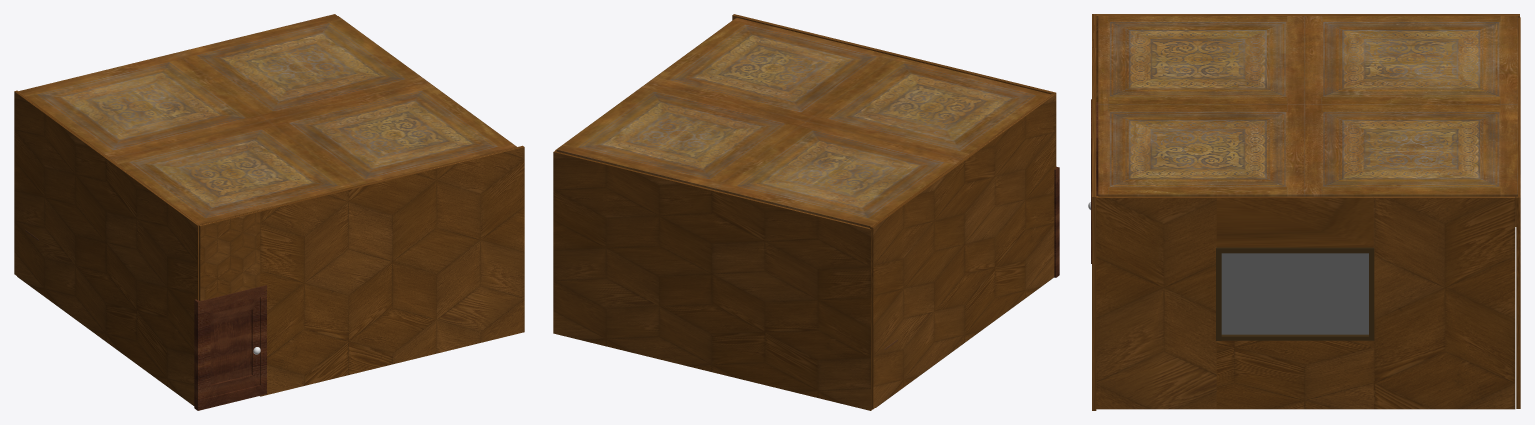
The model's file is Boss room.fbx.
3 views of the same model, side by side, from view 1: azimuth 30°, elevation 25°; view 2: azimuth 150°, elevation 25°; view 3: azimuth 270°, elevation 25° (orthographic). The views are drawn at different scales.
Visible parts, largest first — view 1: pCube160, pCube179, pCube125, pCube192; view 2: pCube178, pCube160, pCube125, pCube179, pCube192; view 3: pCube160, pCube180, pPlane4, pCube173, pCube179, pCube178, pCube125, pCube192.
Boxes of the visible parts, <box> form: pCube160: <box>19,14,516,224</box>; pCube179: <box>198,145,524,396</box>; pCube125: <box>14,90,199,405</box>; pCube192: <box>194,285,266,410</box>; pCube178: <box>553,150,872,410</box>; pCube160: <box>556,18,1050,227</box>; pCube125: <box>870,94,1055,409</box>; pCube179: <box>732,14,1056,166</box>; pCube192: <box>1054,166,1059,277</box>; pCube160: <box>1098,16,1517,198</box>; pCube180: <box>1096,196,1515,409</box>; pPlane4: <box>1221,253,1368,334</box>; pCube173: <box>1216,247,1374,340</box>; pCube179: <box>1092,14,1096,410</box>; pCube178: <box>1516,17,1520,408</box>; pCube125: <box>1096,14,1519,226</box>; pCube192: <box>1091,99,1098,263</box>.
Bounding box in the file's own units: 99.64 × 53.84 × 98.69.
